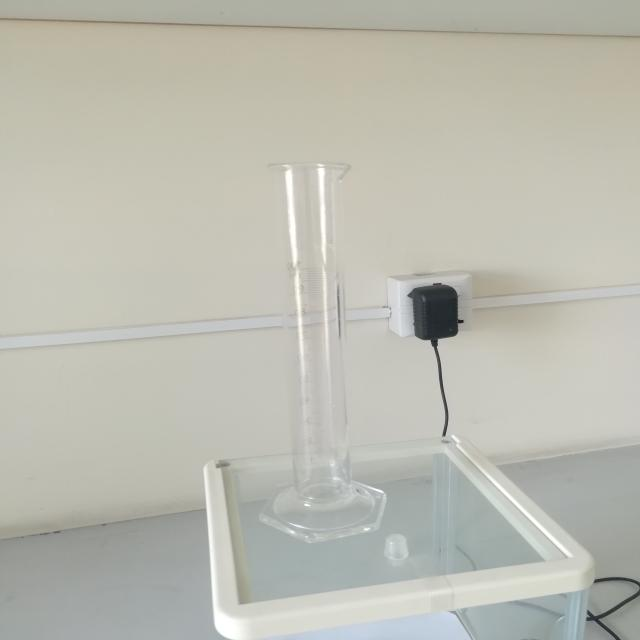Measuring_Cylinder: (230, 123, 420, 555)
